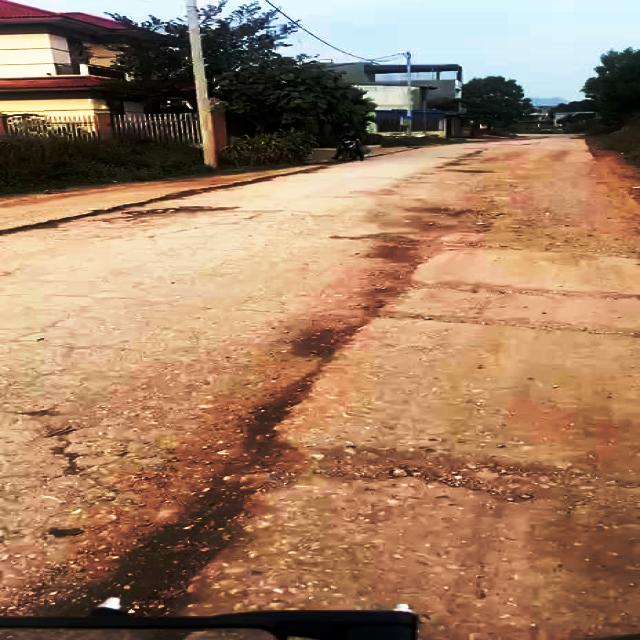pothole: (71, 434, 295, 640), (306, 438, 580, 506)
